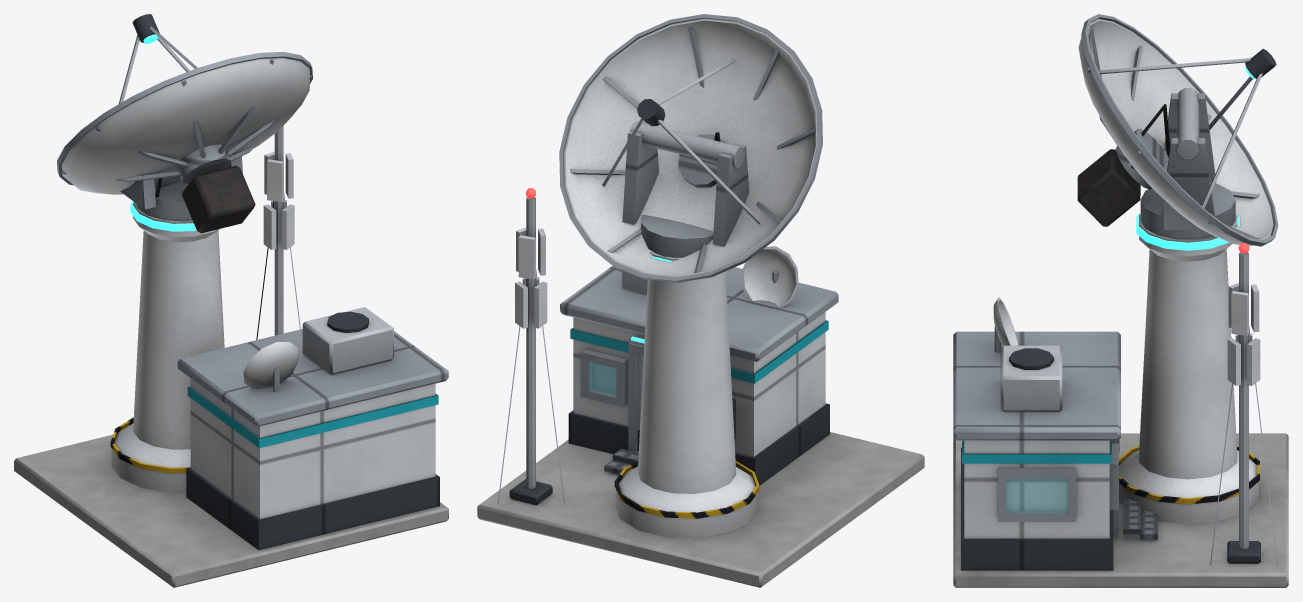
Rendered from estacion_comunicaciones.fbx.
3 views of the same model, side by side, from view 1: azimuth 30°, elevation 25°; view 2: azimuth 150°, elevation 25°; view 3: azimuth 270°, elevation 25° (orthographic). The views are drawn at different scales.
Parts seen in each view (by area): view 1: estacion_comunicaciones, estacion_comunicaciones_antena, estacion_comunicaciones_neon; view 2: estacion_comunicaciones, estacion_comunicaciones_antena, estacion_comunicaciones_cristal; view 3: estacion_comunicaciones, estacion_comunicaciones_antena, estacion_comunicaciones_cristal, estacion_comunicaciones_neon.
Part boxes in pixels (box(x1,y1,x2,y2)): estacion_comunicaciones: box(14, 126, 448, 587); estacion_comunicaciones_antena: box(57, 14, 312, 233); estacion_comunicaciones_neon: box(130, 34, 196, 231); estacion_comunicaciones: box(477, 132, 924, 587); estacion_comunicaciones_antena: box(559, 14, 822, 282); estacion_comunicaciones_cristal: box(589, 362, 616, 395); estacion_comunicaciones: box(953, 104, 1288, 587); estacion_comunicaciones_antena: box(1077, 14, 1278, 246); estacion_comunicaciones_cristal: box(1006, 479, 1067, 512); estacion_comunicaciones_neon: box(1136, 67, 1255, 250).
Bounding box in the file's own units: 6 × 9.42 × 6.
3 materials, 3 textured.
